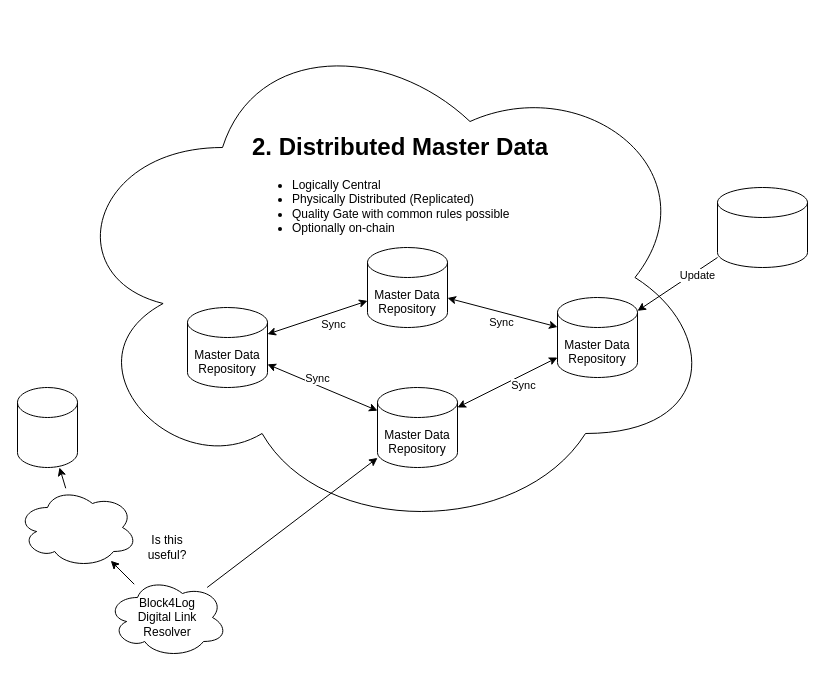
This 825x675 diagram has some shape labels left out. Each missing label, with the box of its shape:
Customer's internal DB: (716, 186, 808, 268)
GS1 Global Resolver: (16, 486, 138, 568)
